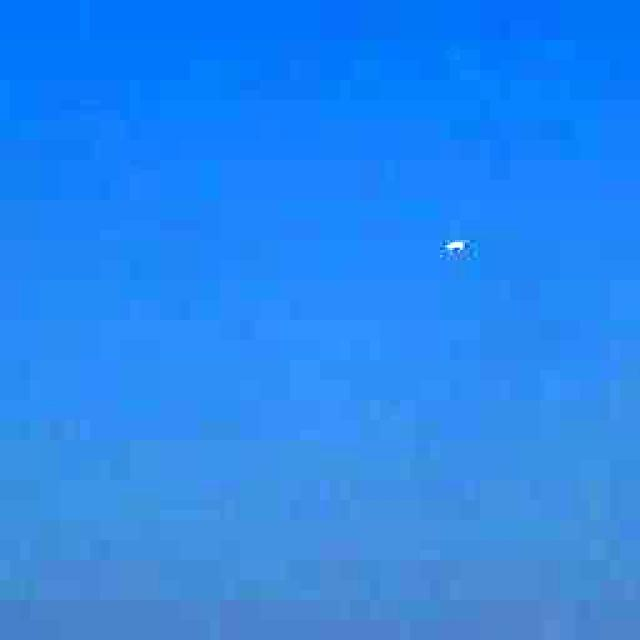bird: (426, 218, 486, 272)
